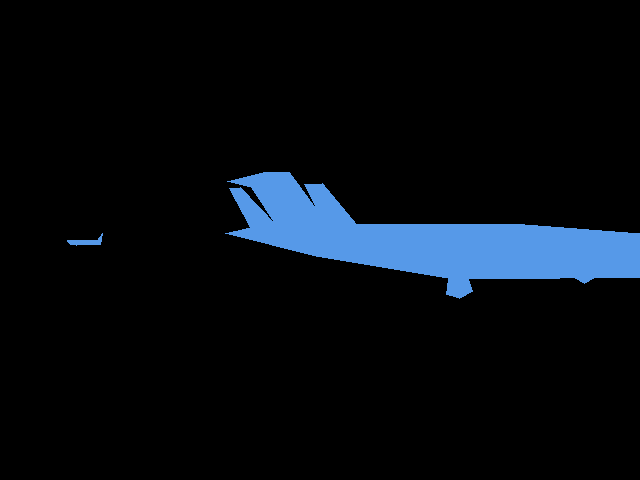Airplane: (225, 172, 640, 298), (67, 233, 103, 245)
